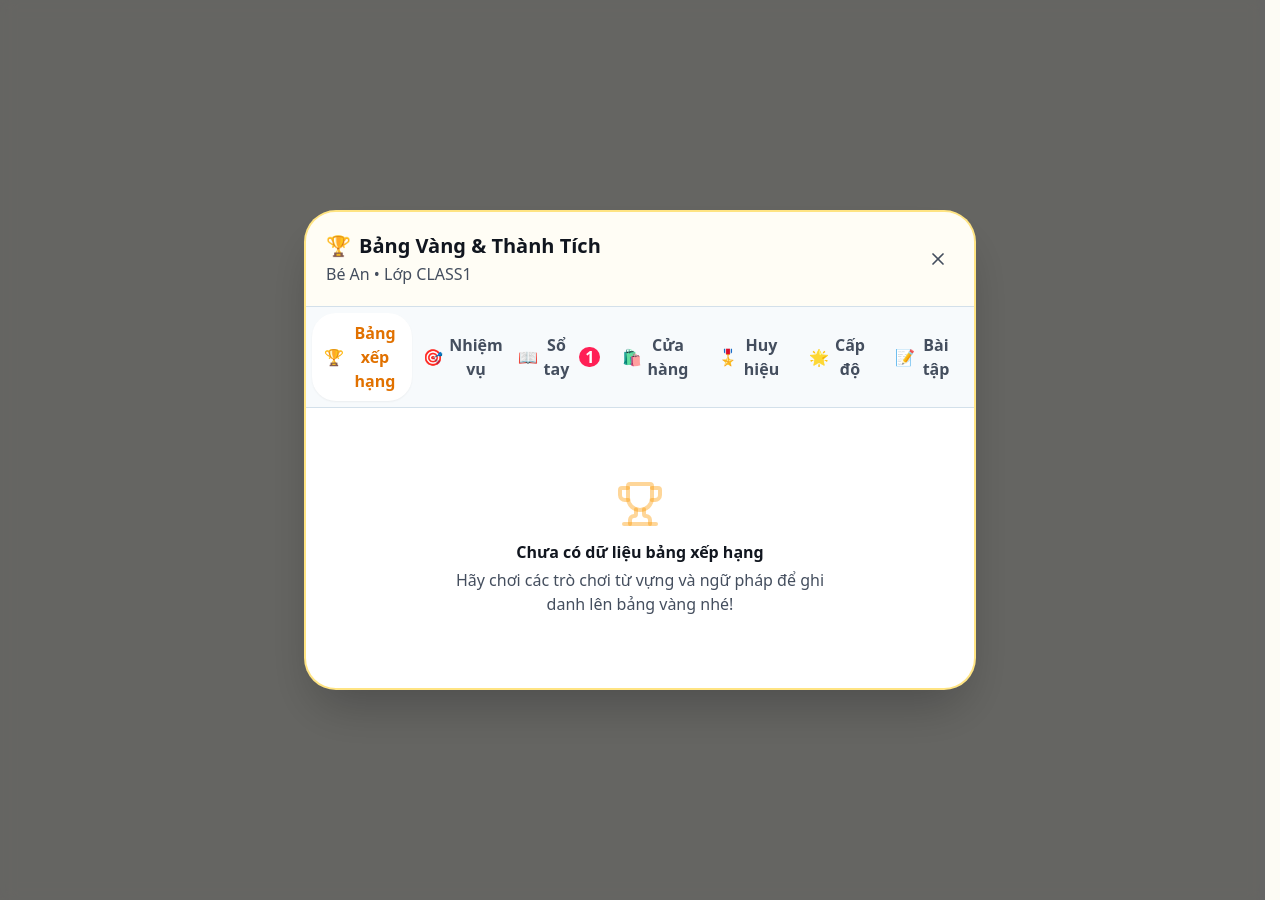
StudentGamificationModal Component › switches to Sổ tay (notebook) tab and displays MistakeNotebookTab with due badge
Expected: the text "1" is shown, [579,347,600,367]
Expected: the text with test id "notebook-due-badge" reads "1", [585,346,594,368]
# Click tab
Click the tab "📖 Sổ tay 1". click: (559, 357)
box: [514,313,604,401]
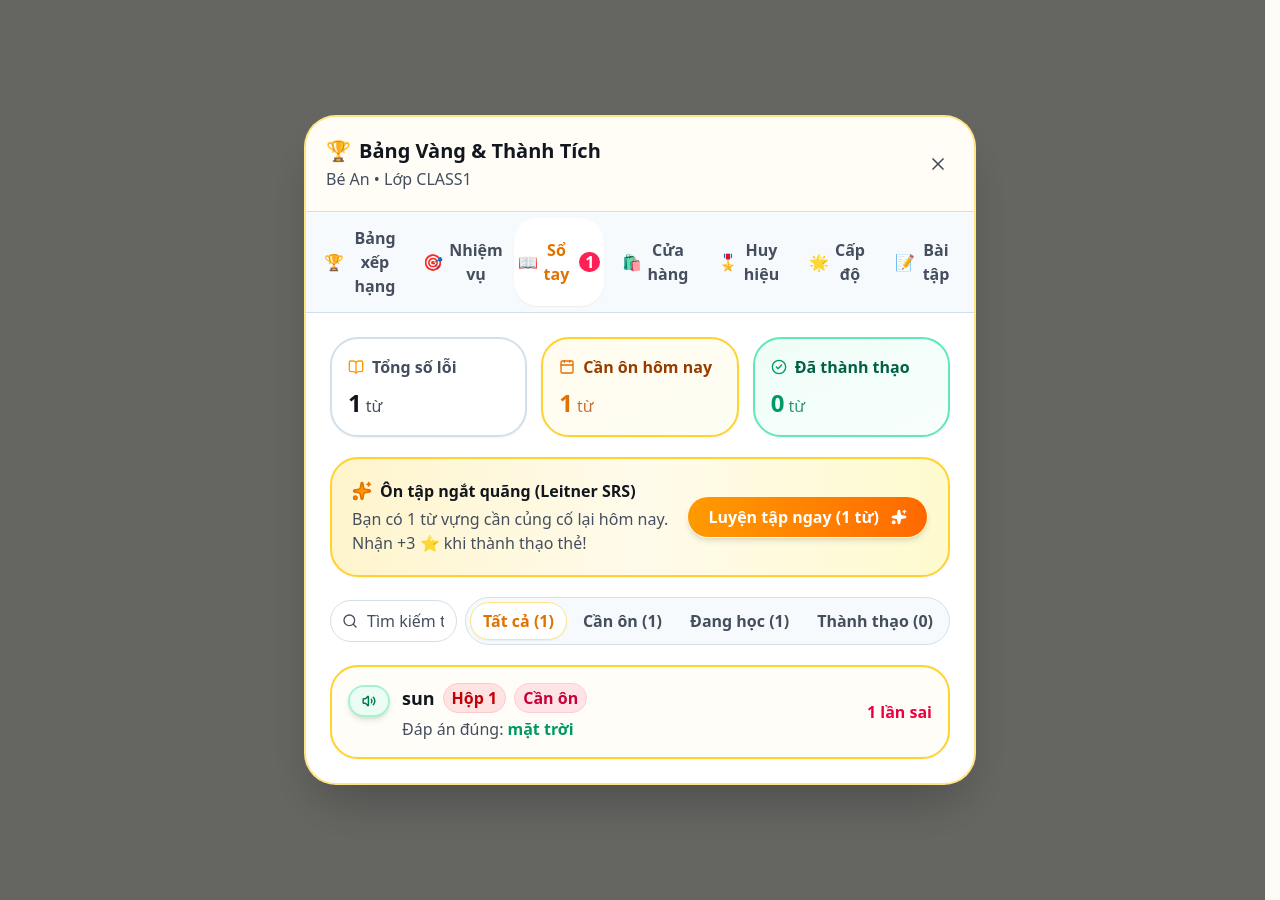
Expected: the text "Tổng số lỗi" is shown, [372,355,456,379]
Expected: the text "sun" is shown, [402,684,435,712]
